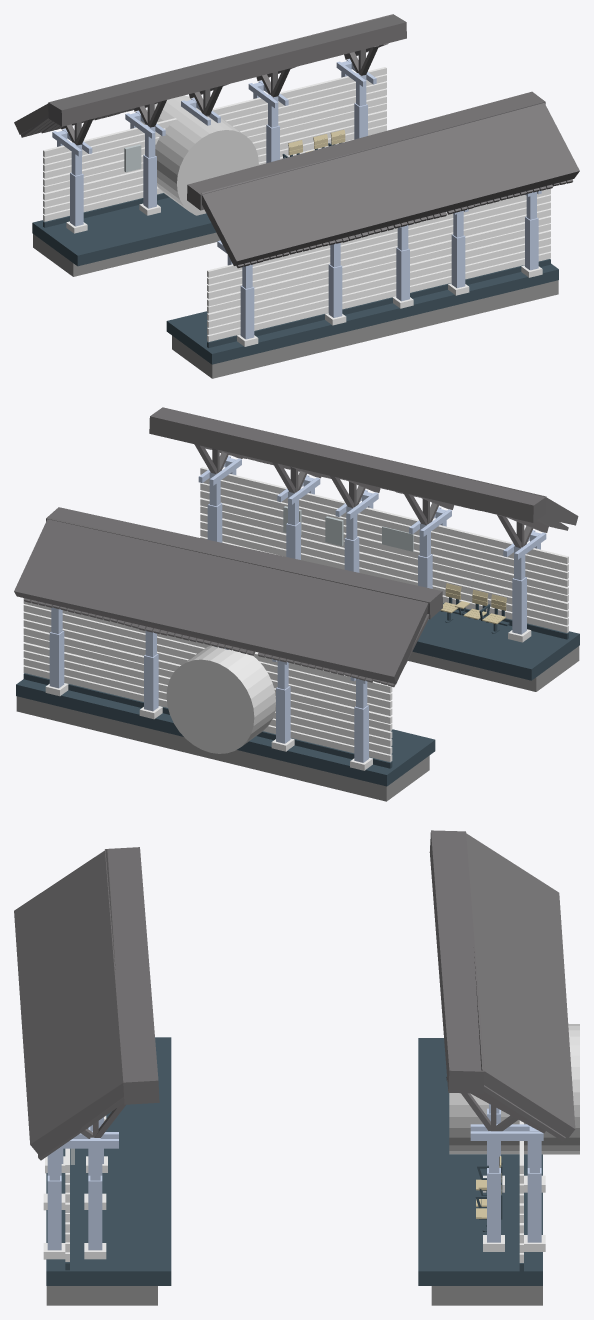
Rendered from zastávka.glb.
3 views of the same model, one above another, from view 1: azimuth 30°, elevation 25°; view 2: azimuth 150°, elevation 25°; view 3: azimuth 270°, elevation 25° (orthographic). The views are drawn at different scales.
Parts seen in each view (by area): view 1: group392127015, group363826387, group564881360, Válec, group208473988, group1408056217, group1220815049, group20818879, group933897435, group206572431, group433978502, group2012354050 (+28 smaller); view 2: group2017282356, group1220815049, Válec, group208473988, group564881360, group599022633, group363826387, group433978502, group206572431, group113901929, group20818879, group933897435 (+28 smaller); view 3: group392127015, group2017282356, group564881360, group208473988, group363826387, group1220815049, Válec, group1408056217, group599022633, group1812735021, group2078504602, group1352452465 (+2 smaller).
Part boxes in pixels (<box>): group392127015: <box>201,103,579,265</box>; group363826387: <box>48,14,406,126</box>; group564881360: <box>166,263,558,364</box>; Válec: <box>140,95,258,215</box>; group208473988: <box>32,197,216,266</box>; group1408056217: <box>172,280,558,378</box>; group1220815049: <box>187,91,545,210</box>; group20818879: <box>207,194,550,284</box>; group933897435: <box>207,201,550,291</box>; group206572431: <box>207,216,550,306</box>; group433978502: <box>207,230,550,320</box>; group2012354050: <box>207,209,550,298</box>; group2017282356: <box>14,517,428,684</box>; group1220815049: <box>149,407,546,522</box>; Válec: <box>166,645,275,753</box>; group208473988: <box>16,679,435,786</box>; group564881360: <box>412,610,579,680</box>; group599022633: <box>16,696,429,801</box>; group363826387: <box>46,507,442,619</box>; group433978502: <box>200,513,568,609</box>; group206572431: <box>200,498,568,594</box>; group113901929: <box>200,467,568,563</box>; group20818879: <box>203,478,568,571</box>; group933897435: <box>200,483,568,579</box>; group392127015: <box>14,849,123,1157</box>; group2017282356: <box>466,833,575,1138</box>; group564881360: <box>46,1037,171,1285</box>; group208473988: <box>418,1038,542,1285</box>; group363826387: <box>429,830,484,1093</box>; group1220815049: <box>105,847,159,1104</box>; Válec: <box>449,1024,579,1154</box>; group1408056217: <box>46,1286,157,1305</box>; group599022633: <box>431,1286,542,1305</box>; group1812735021: <box>88,1175,102,1250</box>; group2078504602: <box>47,1175,61,1250</box>; group1352452465: <box>527,1168,541,1242</box>.
Bounding box in the file's own units: 4.58 × 1.99 × 4.34.
